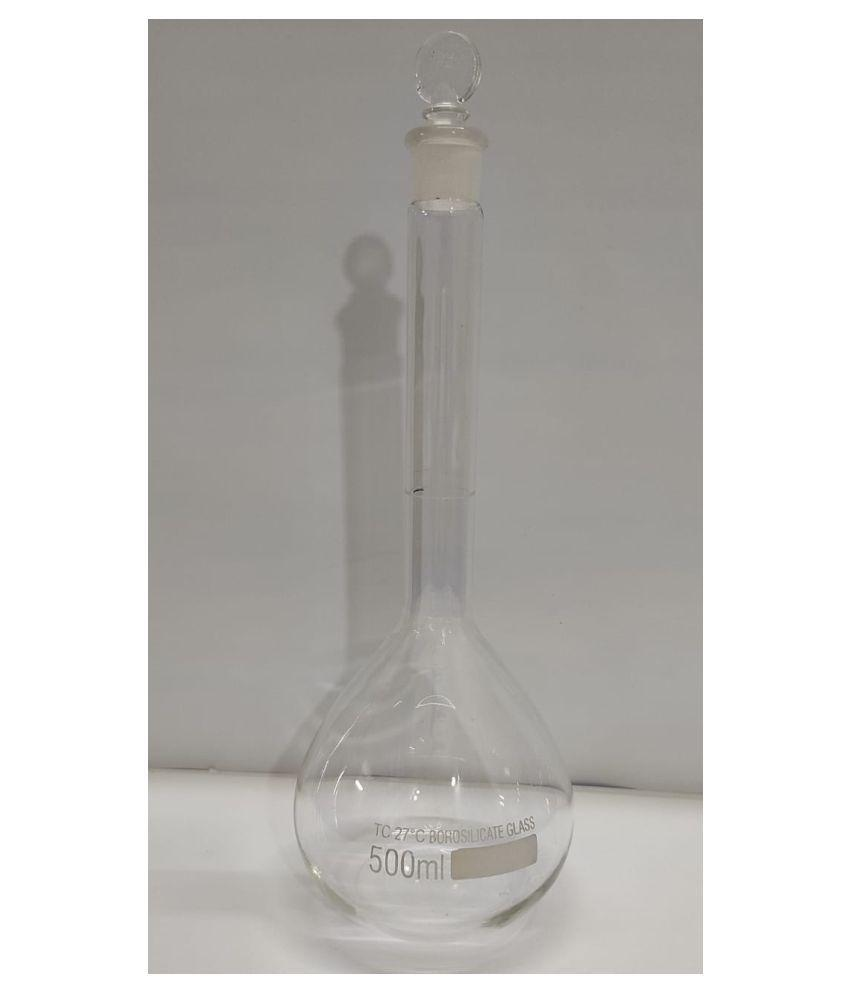Volumetric flask: (275, 34, 577, 937)
